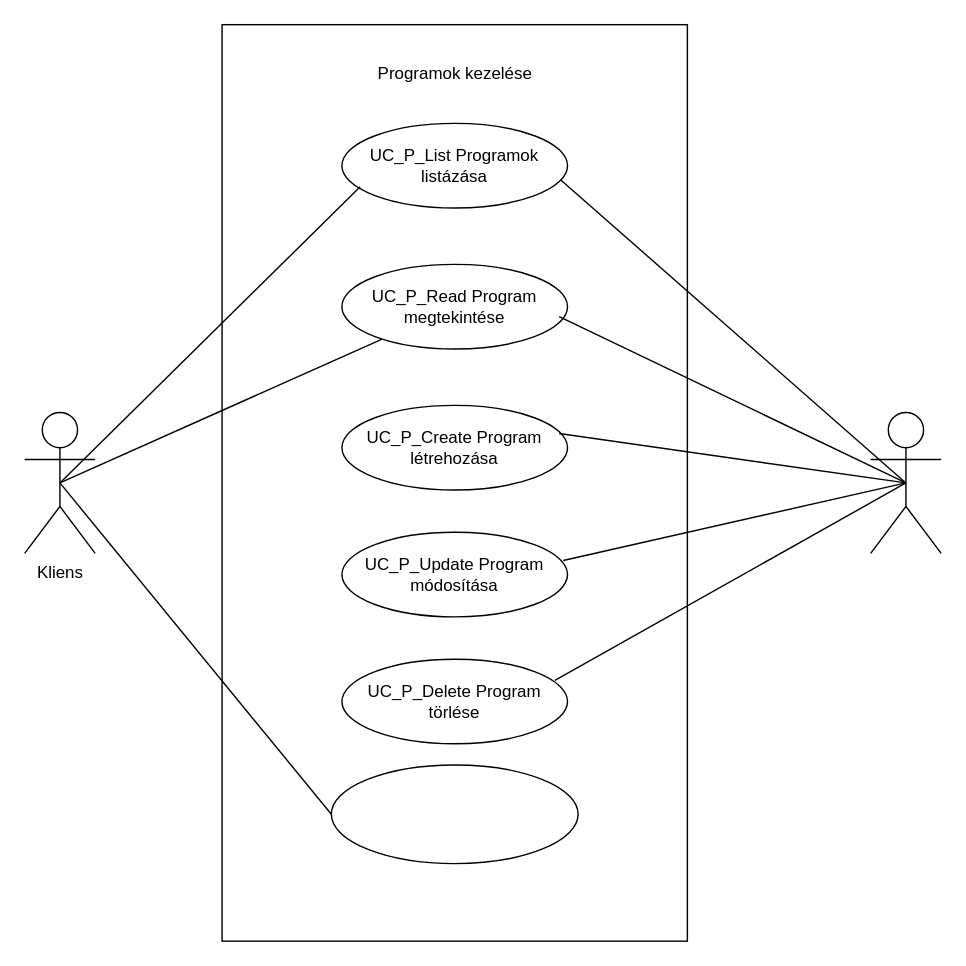
Image size: 966x966. Some labels were removed from this diagram. The shapes that lost their labels are listed below. From the top down, each one's box as (x1, y1, x2, y2) in pixels, then its label:
(869, 411, 941, 553): Edző
(330, 764, 578, 864): UC_P_RemoveClient Kliens eltávolítása programból
